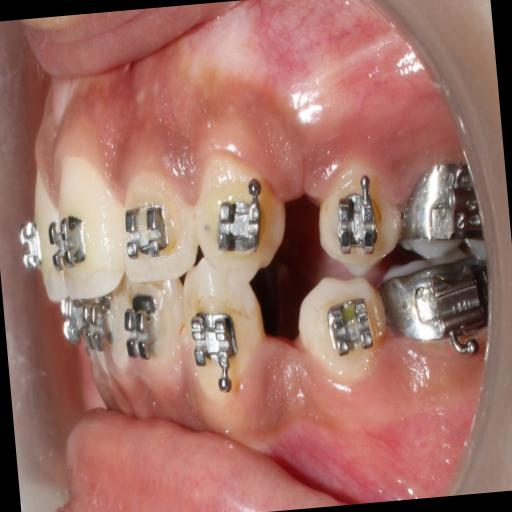correct_brace: (314, 158, 406, 279), (119, 194, 176, 265), (214, 187, 266, 264), (46, 206, 90, 276)
incorrect_brace: (118, 170, 202, 288), (331, 186, 383, 260)
